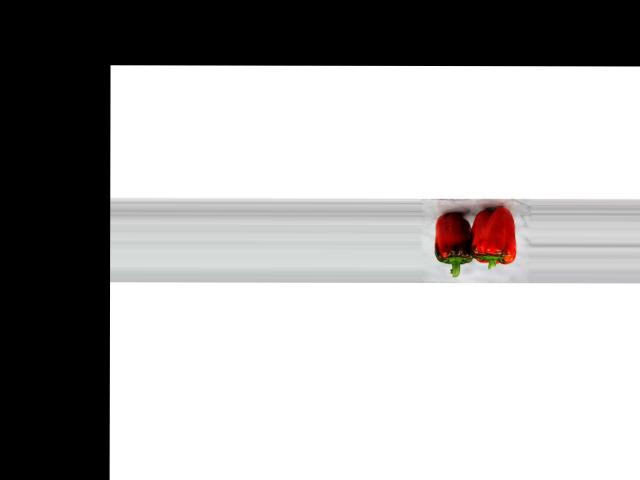bell_pepper: (471, 206, 523, 272)
